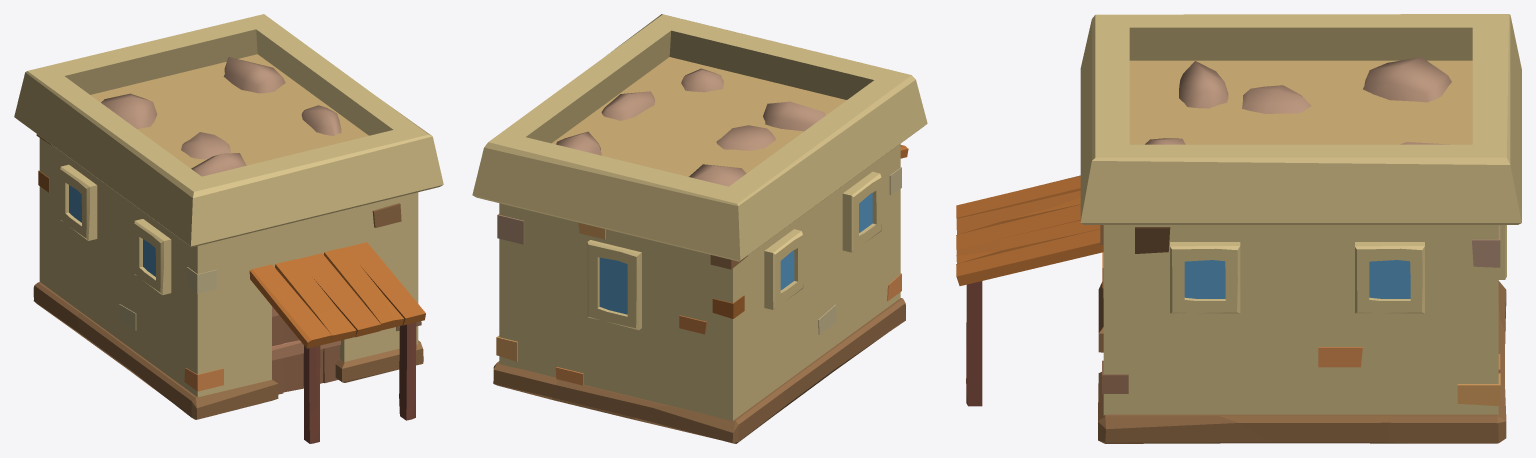
File: House_F.fbx
3 views of the same model, side by side, from view 1: azimuth 30°, elevation 25°; view 2: azimuth 150°, elevation 25°; view 3: azimuth 270°, elevation 25° (orthographic). The views are drawn at different scales.
Parts seen in each view (by area): view 1: House_F; view 2: House_F; view 3: House_F.
Part boxes in pixels (box(x1,y1,x2,y2)): House_F: box(14, 14, 443, 443); House_F: box(472, 14, 927, 443); House_F: box(956, 14, 1521, 443).
Size of the model in its own units: 408 by 357 by 633.
